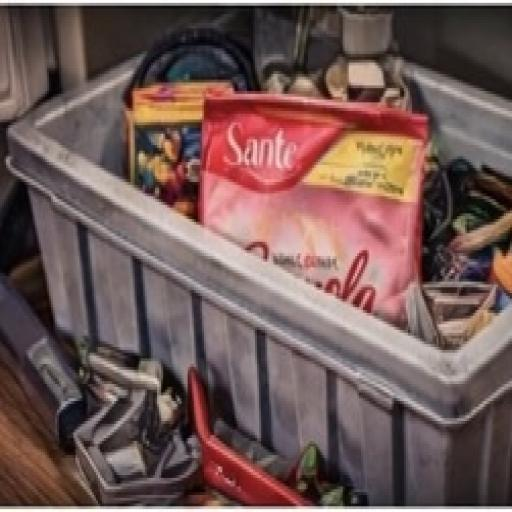granola: (172, 57, 485, 424)
